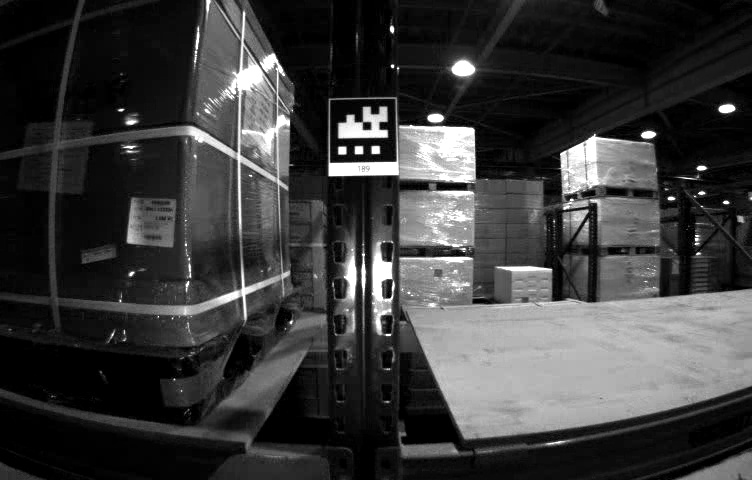True Barcode: (129, 195, 179, 249)
